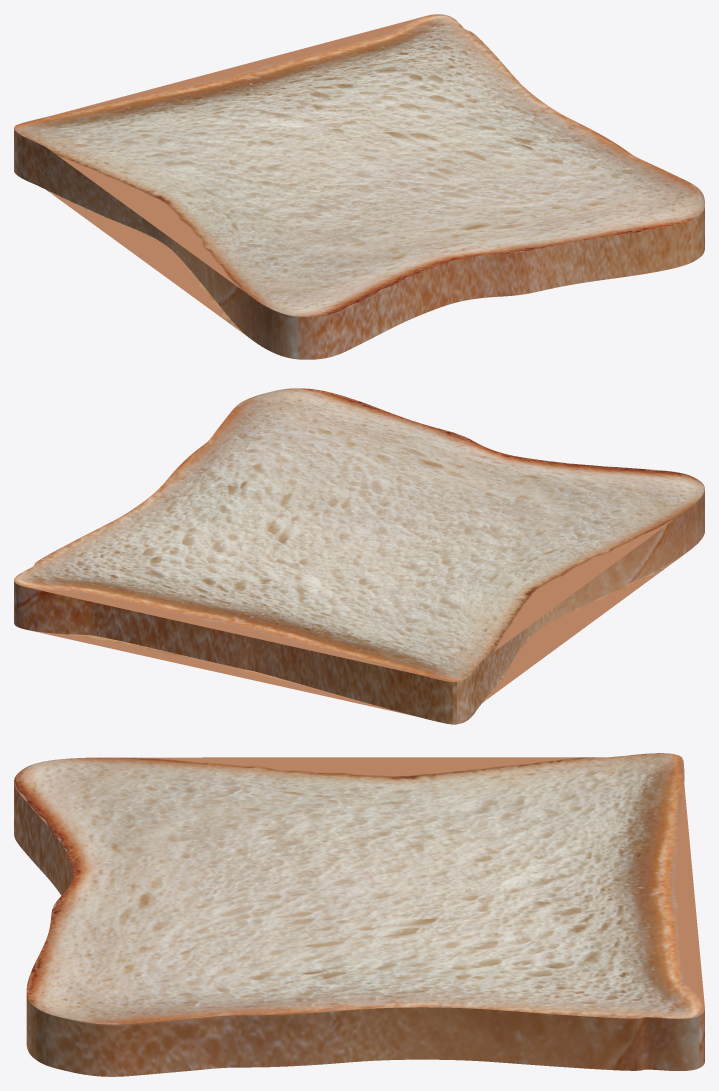
File: bread.fbx
The picture shows the model from 3 angles, top to bottom: view 1: azimuth 30°, elevation 25°; view 2: azimuth 150°, elevation 25°; view 3: azimuth 270°, elevation 25°; orthographic projection. The views are drawn at different scales.
Visible parts, largest first — view 1: Curve.001; view 2: Curve.001; view 3: Curve.001.
Part boxes in pixels (left/top/right/bottom): Curve.001: left=14, top=14, right=704, bottom=359; Curve.001: left=14, top=388, right=704, bottom=724; Curve.001: left=14, top=753, right=704, bottom=1076.
Bounding box in the file's own units: 14.34 × 1.29 × 15.43.
